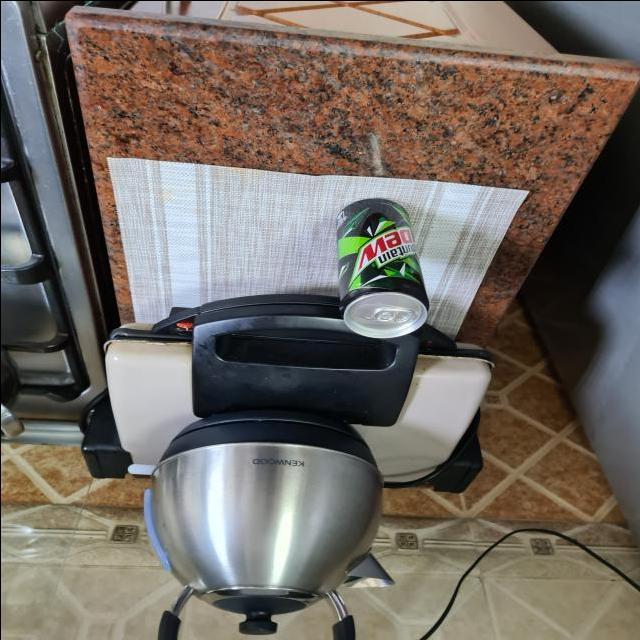can: (324, 198, 431, 337)
